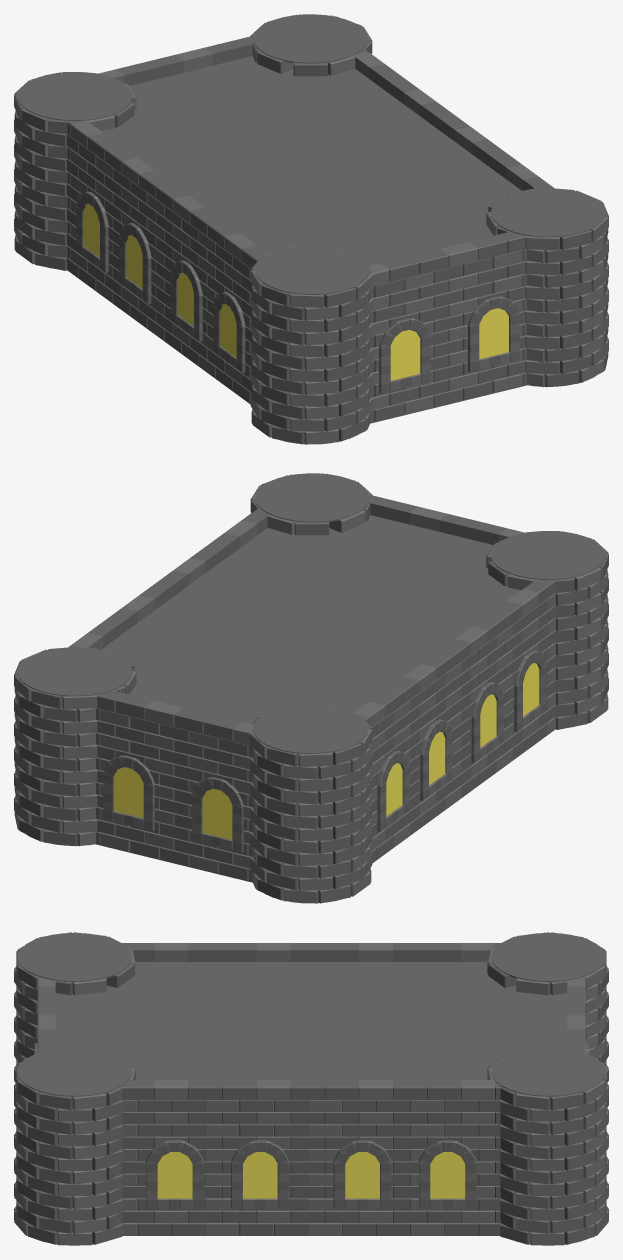
The model's file is BetterGuardLevel.fbx.
3 renders of one model, top to bottom at view 1: azimuth 30°, elevation 25°; view 2: azimuth 150°, elevation 25°; view 3: azimuth 270°, elevation 25°, orthographic.
Visible parts, largest first — view 1: Cube, Cylinder.002, Cylinder, Cylinder.003, Cylinder.001, Cube.903, Cube.939, Cube.1766, Cube.1790, Cube.1016, Cube.1815, Cube.606 (+7 smaller); view 2: Cube, Cylinder, Cylinder.002, Cylinder.001, Cylinder.003, Cube.965, Cube.990, Cube.1016, Cube.1815, Cube.1766, Cube.1790, Cube.701 (+7 smaller); view 3: Cube, Cylinder, Cylinder.002, Cylinder.001, Cylinder.003, Cube.1890, Cube.1915, Cube.1840, Cube.1865, Cube.1705, Cube.1636, Cube.1637 (+105 smaller).
Part boxes in pixels (x1,y1,x2,y2): Cube: [67, 56, 525, 286]; Cylinder.002: [253, 14, 367, 63]; Cylinder: [491, 188, 605, 237]; Cylinder.003: [17, 72, 131, 120]; Cylinder.001: [255, 246, 369, 294]; Cube.903: [390, 330, 420, 380]; Cube.939: [479, 308, 508, 359]; Cube.1766: [126, 235, 142, 288]; Cube.1790: [83, 204, 99, 257]; Cube.1016: [177, 272, 193, 326]; Cube.1815: [220, 304, 236, 357]; Cube.606: [440, 241, 478, 266]; Cube: [97, 515, 554, 745]; Cylinder: [255, 473, 369, 522]; Cylinder.002: [17, 647, 131, 696]; Cylinder.001: [491, 531, 605, 579]; Cylinder.003: [253, 705, 367, 753]; Cube.965: [202, 789, 232, 839]; Cube.990: [114, 767, 143, 818]; Cube.1016: [480, 694, 496, 747]; Cube.1815: [523, 663, 539, 716]; Cube.1766: [429, 731, 445, 785]; Cube.1790: [386, 763, 402, 816]; Cube.701: [144, 700, 182, 725]; Cube: [55, 962, 567, 1100]; Cylinder: [17, 1047, 131, 1096]; Cylinder.002: [491, 1047, 605, 1096]; Cylinder.001: [17, 933, 131, 982]; Cylinder.003: [491, 933, 605, 982]; Cube.1890: [430, 1152, 465, 1198]; Cube.1915: [157, 1152, 192, 1198]; Cube.1840: [243, 1152, 277, 1198]; Cube.1865: [345, 1152, 379, 1198]; Cube.1705: [358, 1080, 392, 1099]; Cube.1636: [222, 1080, 256, 1099]; Cube.1637: [188, 1080, 222, 1099].
Bounding box in the file's own units: 1156 × 485 × 1745.
